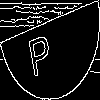P: (25, 25, 54, 78)
